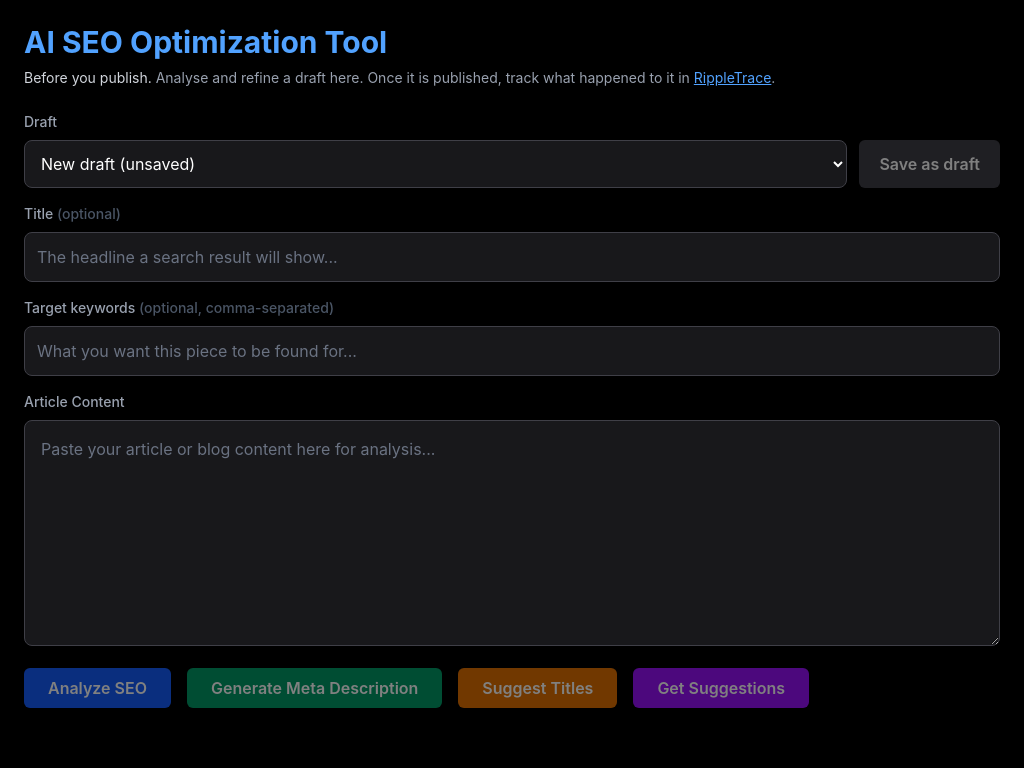
Test: SEO tool title and character budgets › counts title characters as they are typed
The image size is (1024, 768).
Type "A concise headline" into the field labelled "Title (optional)" at (512, 257), box [24,232,1000,282]
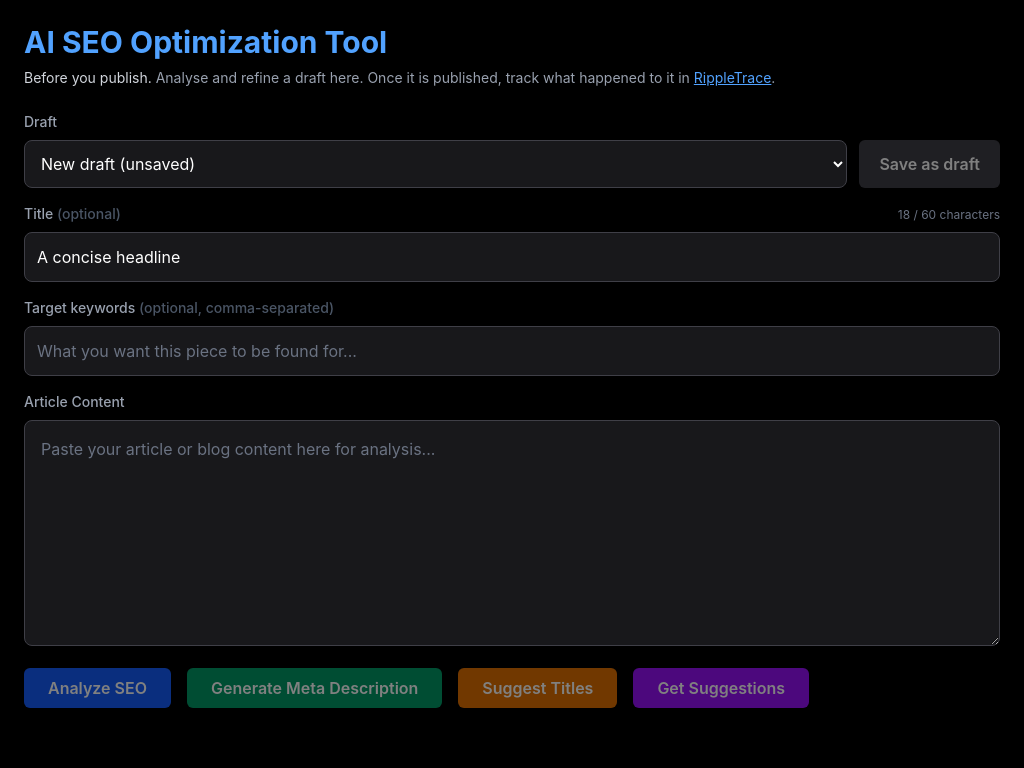
Result: the text with test id "title-character-count" reads "18 / 60 characters" at [898,207,1000,223]
